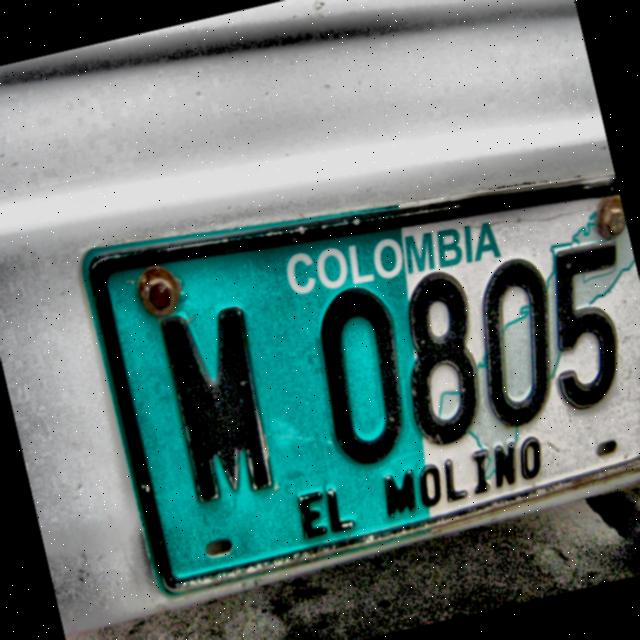0: (297, 272, 414, 480), (469, 247, 555, 444)
5: (546, 226, 634, 425)
8: (393, 259, 489, 459)
M: (140, 290, 285, 527)
